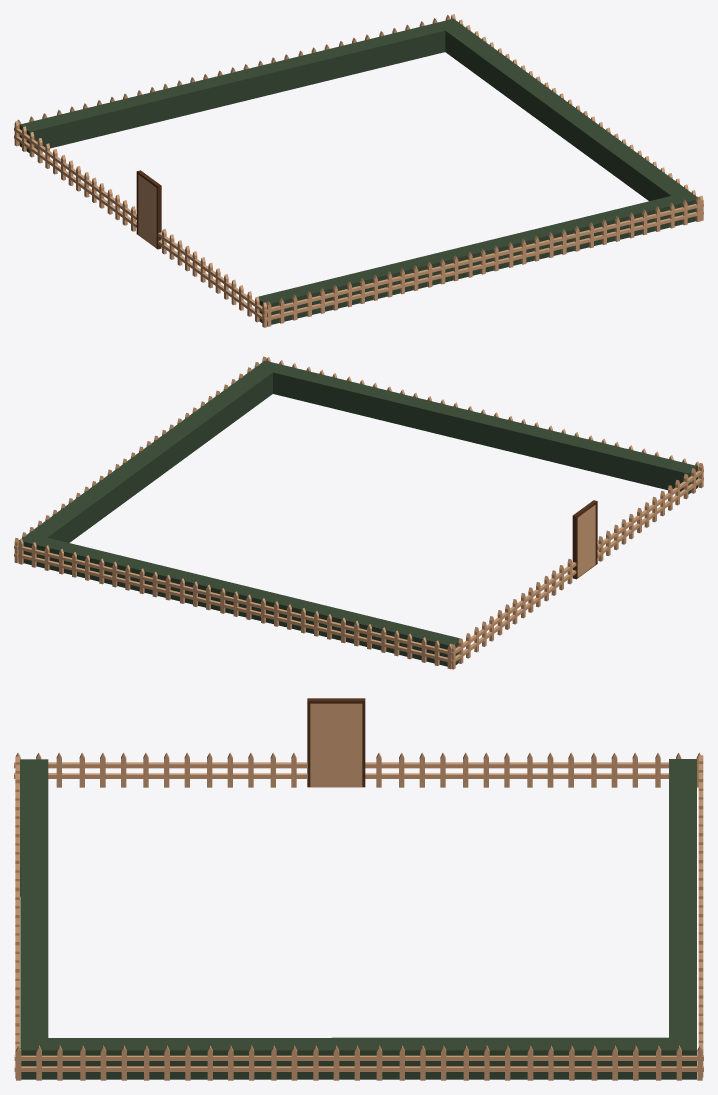
Rendered from SheepPen.glb.
3 views of the same model, one above another, from view 1: azimuth 30°, elevation 25°; view 2: azimuth 150°, elevation 25°; view 3: azimuth 270°, elevation 25° (orthographic). The views are drawn at different scales.
Parts seen in each view (by area): view 1: Bushes, Fences, Door, DoorFrame; view 2: Bushes, Fences, Door, DoorFrame; view 3: Bushes, Fences, Door, DoorFrame.
Part boxes in pixels (box(x1,y1,x2,y2)): Bushes: box(19, 18, 696, 324); Fences: box(14, 14, 703, 327); Door: box(138, 175, 156, 247); DoorFrame: box(136, 170, 161, 249); Bushes: box(19, 360, 697, 666); Fences: box(14, 356, 703, 669); Door: box(577, 505, 595, 577); DoorFrame: box(572, 500, 597, 579); Bushes: box(20, 759, 696, 1079); Fences: box(14, 752, 703, 1080); Door: box(310, 703, 362, 786); DoorFrame: box(307, 698, 365, 787).
Size of the model in its own units: 81.29 by 11.3 by 80.38.
